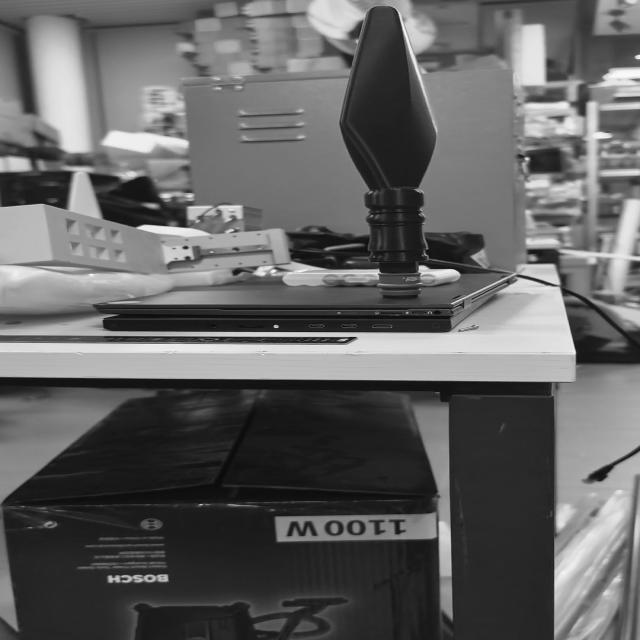base: (370, 269, 430, 303)
